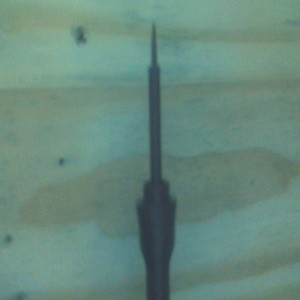solder: (134, 20, 179, 300)
